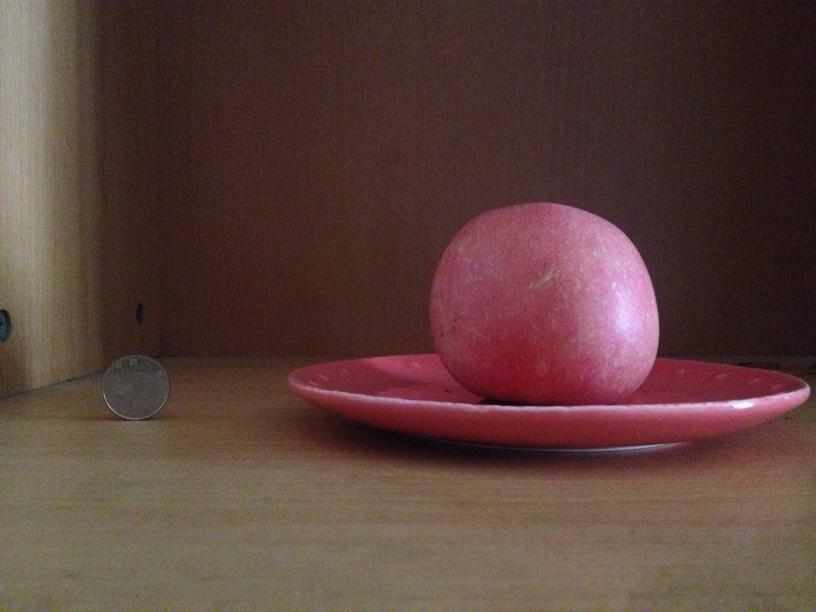apple: (432, 202, 661, 404)
coin: (103, 353, 170, 419)
